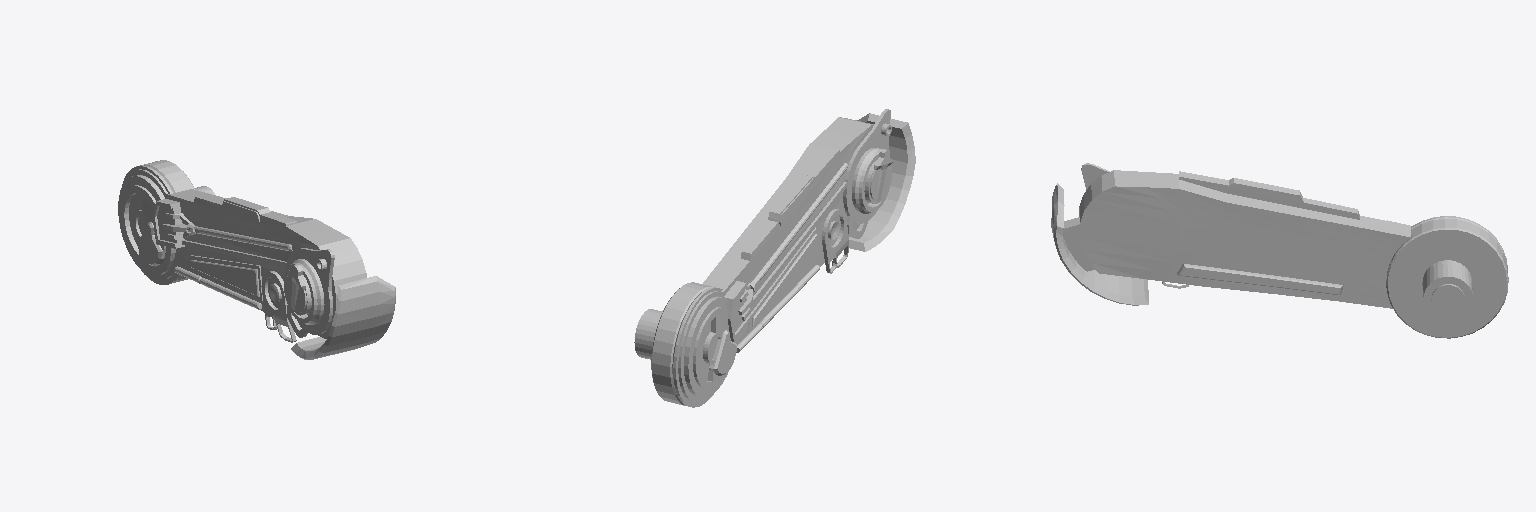
The model's file is ATST_thigh_R.obj.
3 renders of one model, left to right at view 1: azimuth 30°, elevation 25°; view 2: azimuth 150°, elevation 25°; view 3: azimuth 270°, elevation 25°, orthographic.
Visible parts, largest first — view 1: ATST_thigh_R; view 2: ATST_thigh_R; view 3: ATST_thigh_R.
Part boxes in pixels (left/top/right/bottom): ATST_thigh_R: left=118, top=160, right=395, bottom=359; ATST_thigh_R: left=634, top=109, right=915, bottom=407; ATST_thigh_R: left=1051, top=163, right=1508, bottom=338.
Bounding box in the file's own units: 0.4058 × 0.7845 × 2.